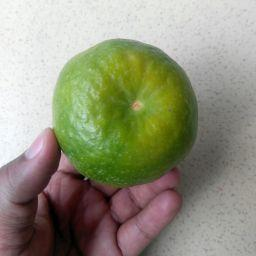Unripe: (52, 40, 197, 184)
